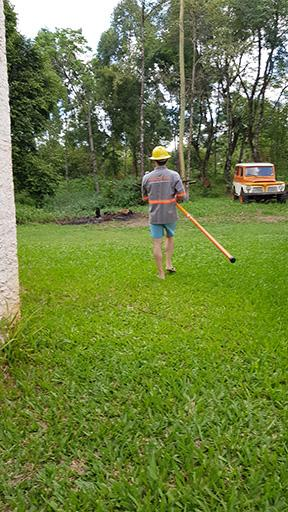Vara_Manobra: (172, 199, 234, 262)
